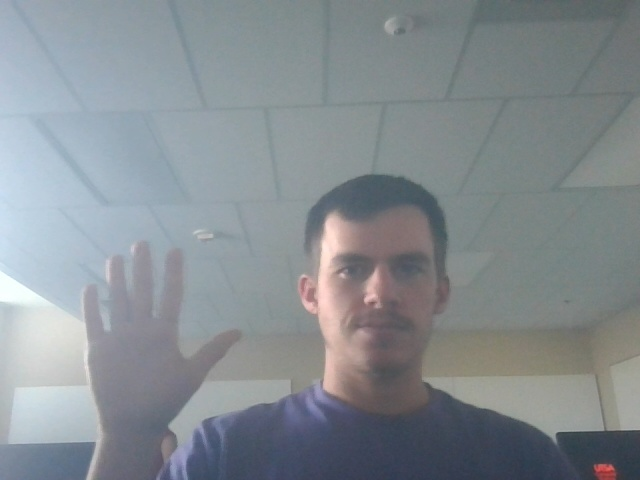hello: (67, 233, 248, 436)
